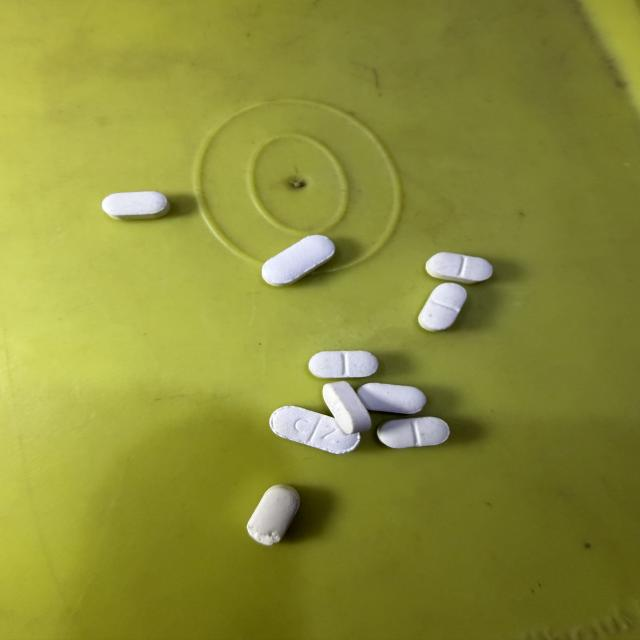pill: (270, 406, 360, 453), (262, 235, 335, 286), (247, 485, 299, 545), (323, 381, 371, 433), (418, 283, 466, 331), (378, 417, 449, 448), (358, 383, 426, 414), (426, 253, 492, 283), (102, 191, 170, 219), (309, 351, 378, 378)
